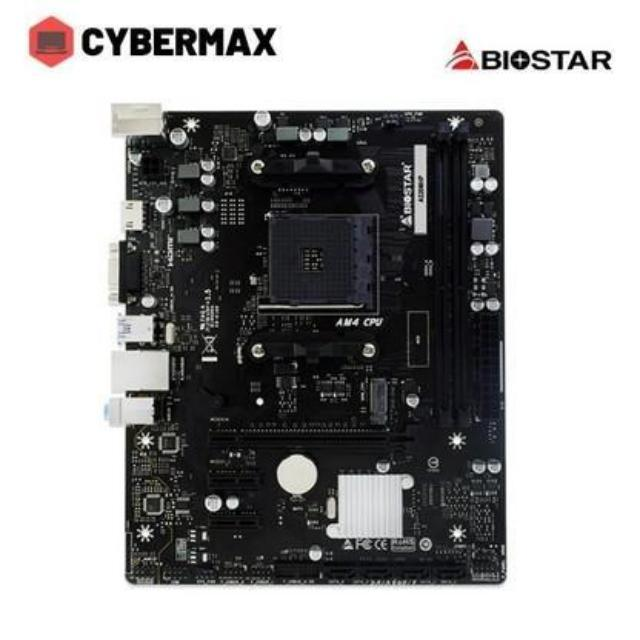Mainboard: (100, 95, 514, 592)
